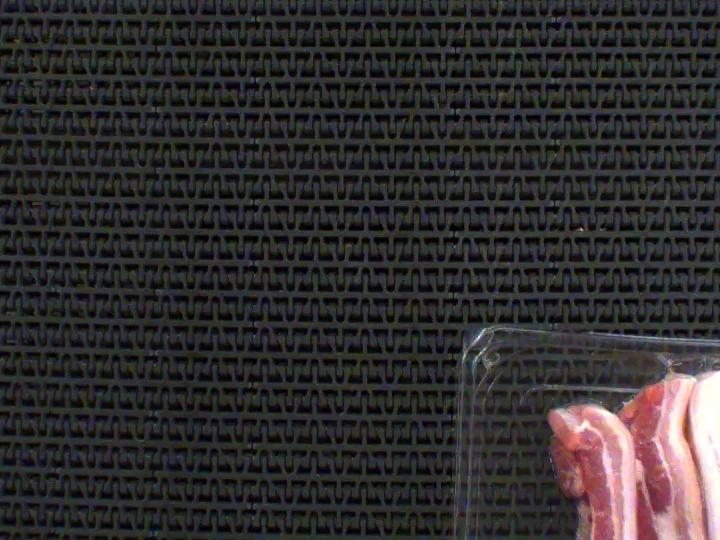packaging-error: (635, 335, 720, 388)
